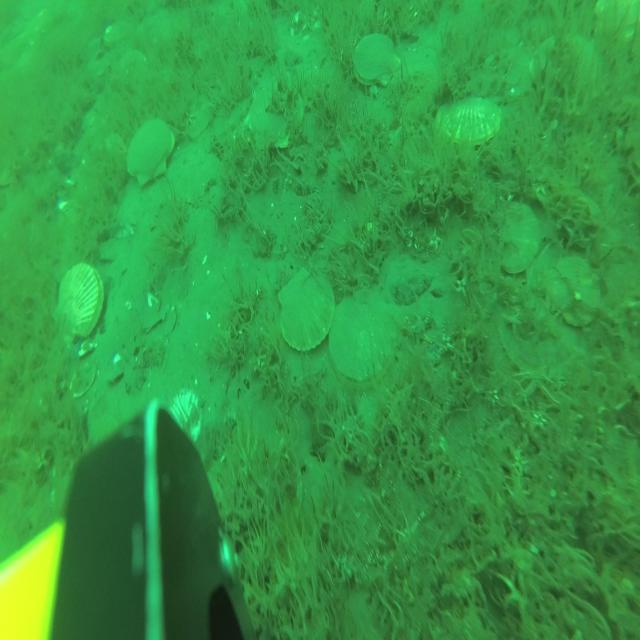scallop: (330, 292, 400, 378), (276, 266, 337, 351), (527, 37, 599, 95), (247, 78, 304, 150), (57, 263, 106, 341), (433, 93, 501, 145), (498, 201, 542, 273), (125, 121, 175, 183), (349, 31, 400, 88), (167, 389, 202, 443)
